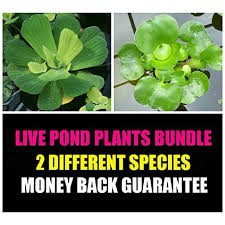water_hyacinth: (114, 13, 223, 110)
